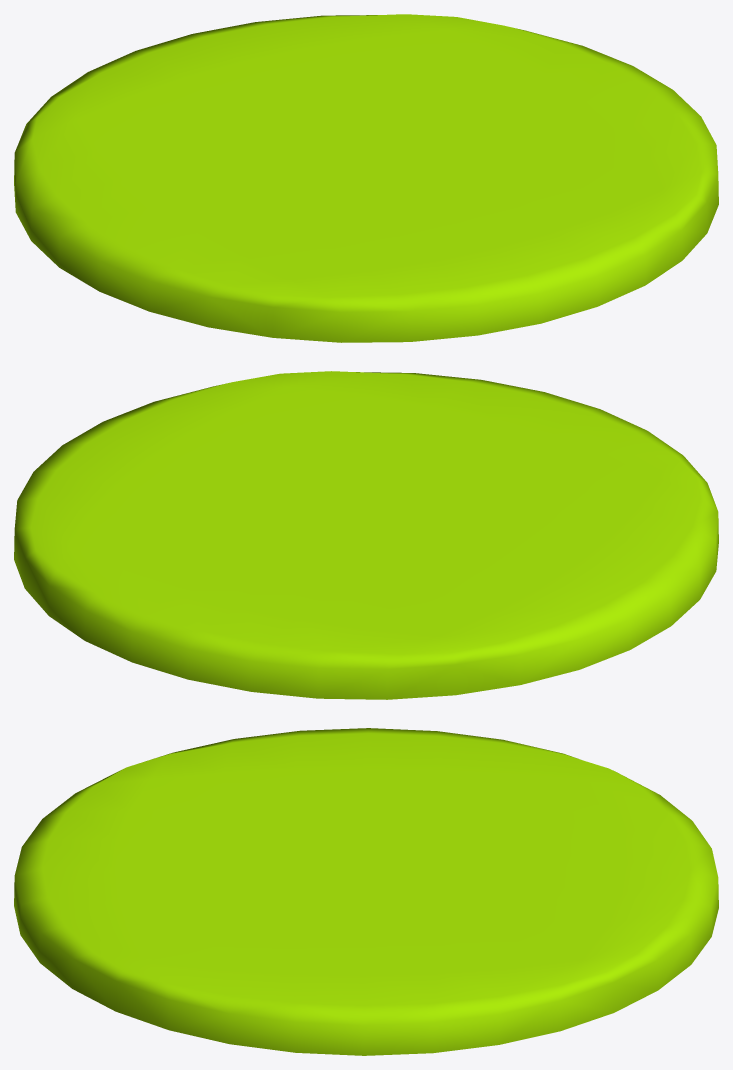
Rendered from Mode_tapis_rond.fbx.
3 renders of one model, top to bottom at view 1: azimuth 30°, elevation 25°; view 2: azimuth 150°, elevation 25°; view 3: azimuth 270°, elevation 25°, orthographic.
Visible parts, largest first — view 1: tapis_rond; view 2: tapis_rond; view 3: tapis_rond.
Part boxes in pixels (x1,y1,x2,y2): tapis_rond: (14, 14, 718, 342); tapis_rond: (14, 371, 718, 699); tapis_rond: (14, 728, 718, 1055).
Bounding box in the file's own units: 133 × 8 × 133.
